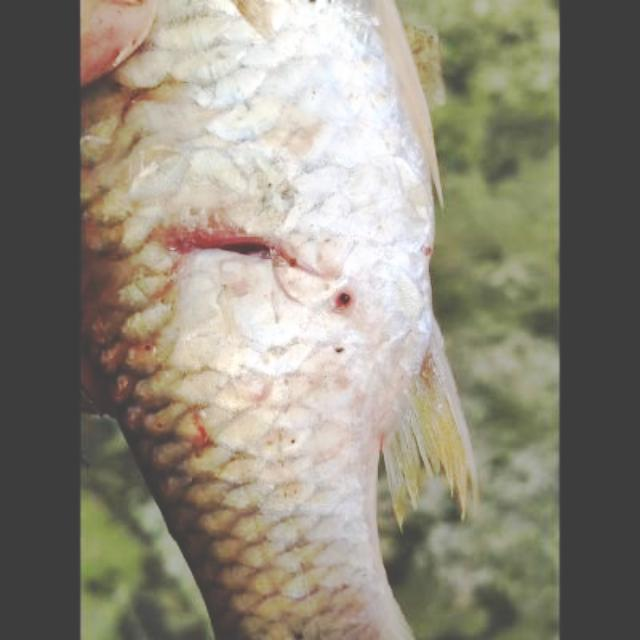Edwardsiella Ictaluri -Bacterial Red Disease-: (82, 0, 474, 638)
